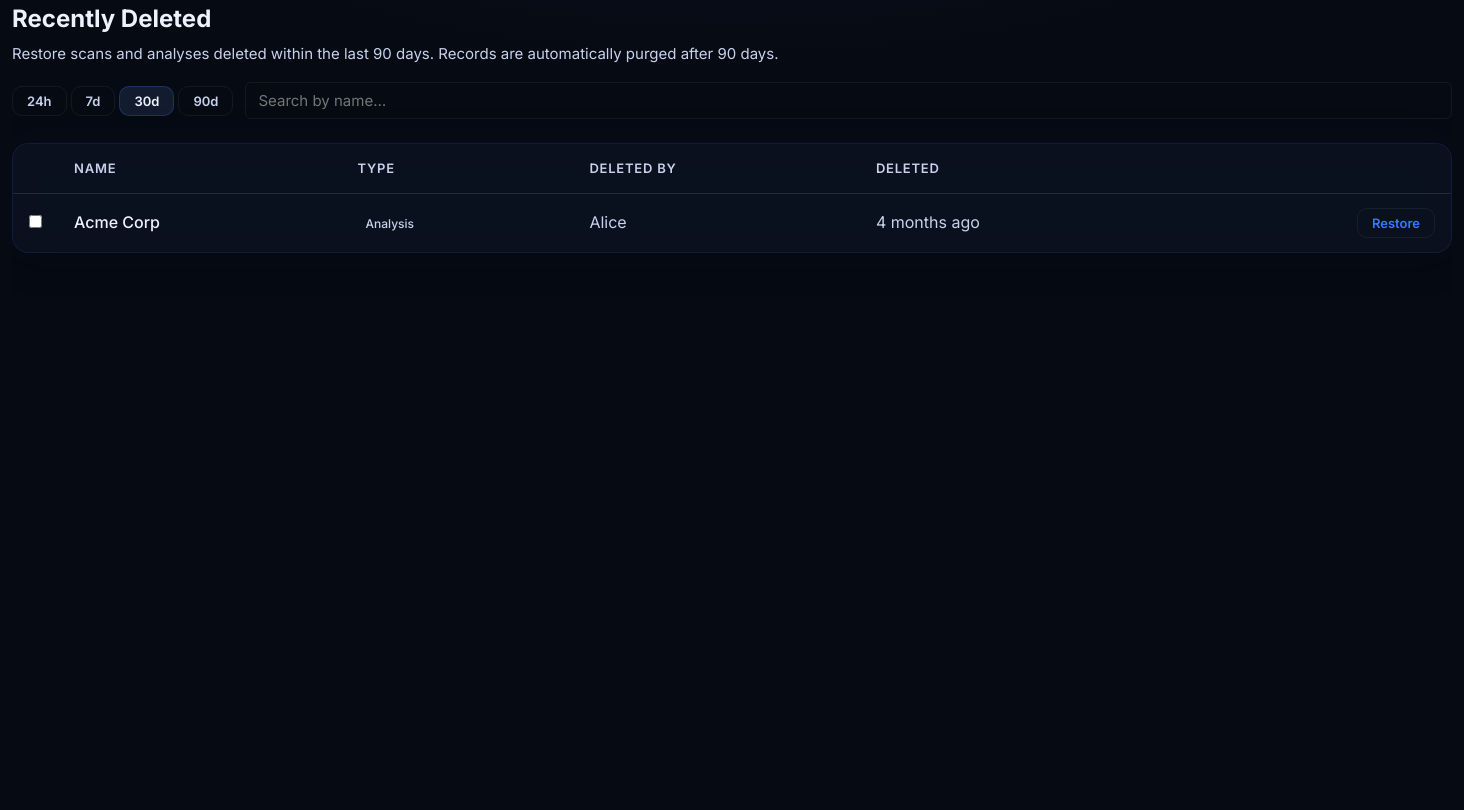
Scenario: RecentlyDeletedView › total failure shows a clean error toast with the failure summary
Click the button with aria-label "Restore Acme Corp": (1396, 223) [1357,208,1435,238]
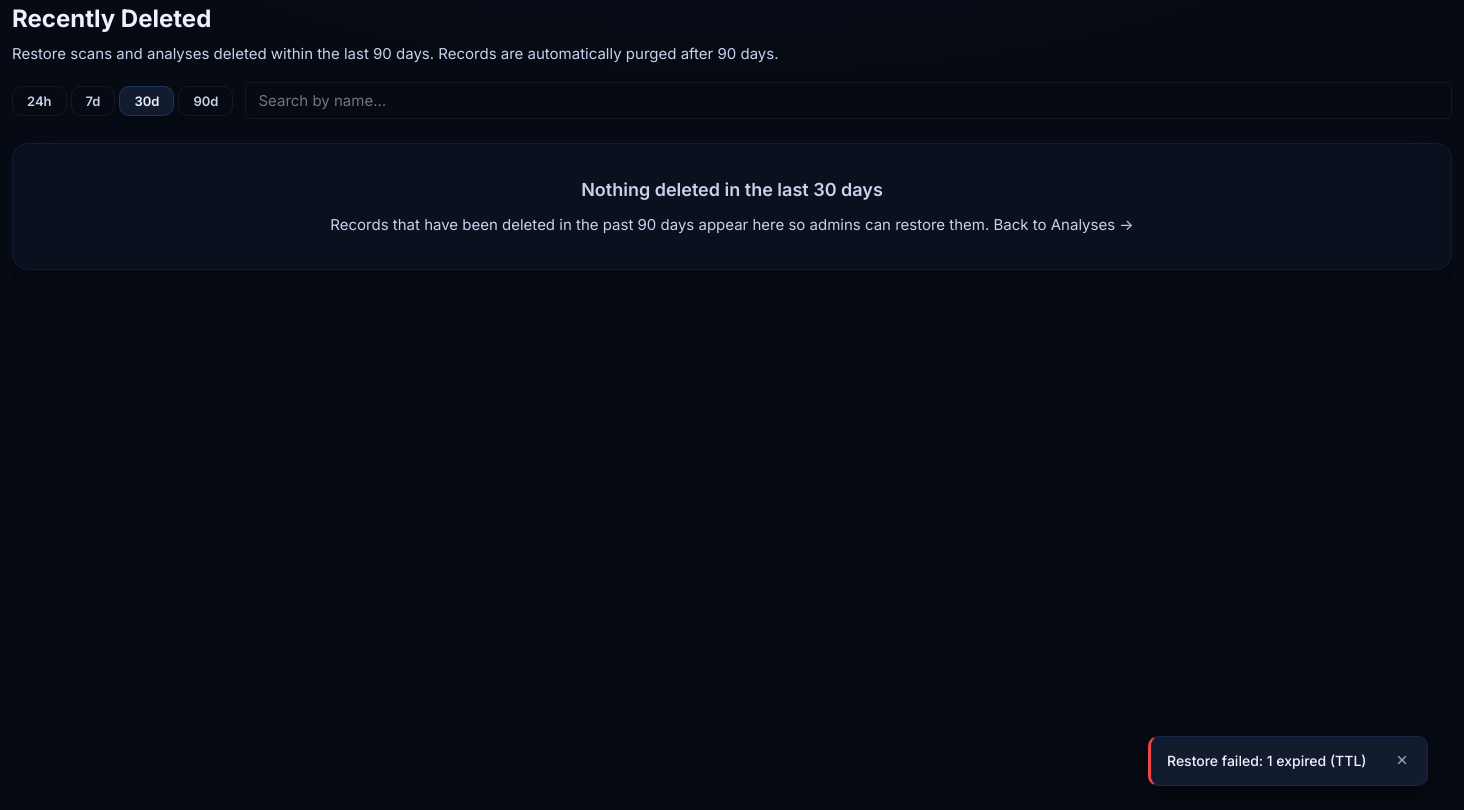
Expected: the text "Restore failed: 1 expired (TTL)" is shown, [1167,751,1381,771]
